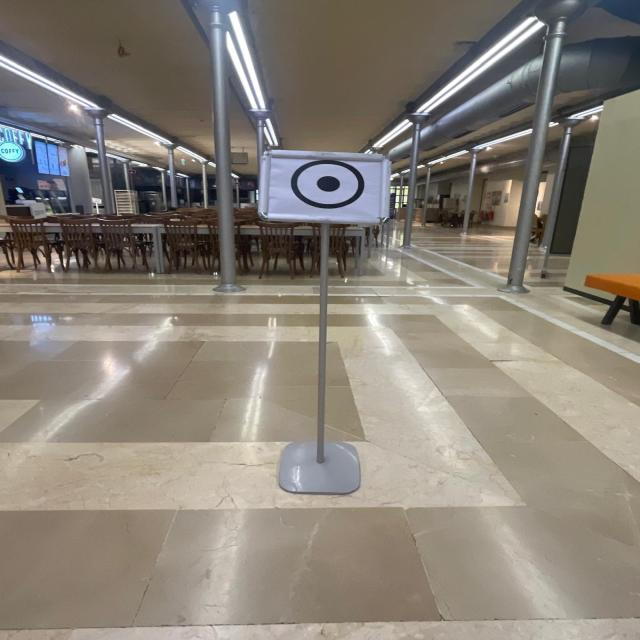Target: (244, 140, 416, 233)
inner: (310, 167, 346, 201)
